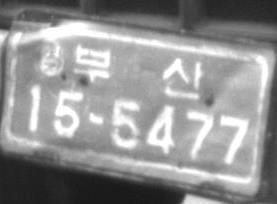-: (86, 111, 106, 125)
1: (20, 83, 47, 133)
4: (146, 104, 177, 155)
5: (110, 97, 141, 149), (53, 88, 84, 137)
7: (184, 108, 215, 160), (219, 114, 250, 166)
부산_D: (72, 43, 204, 101)
영: (35, 39, 65, 77)
